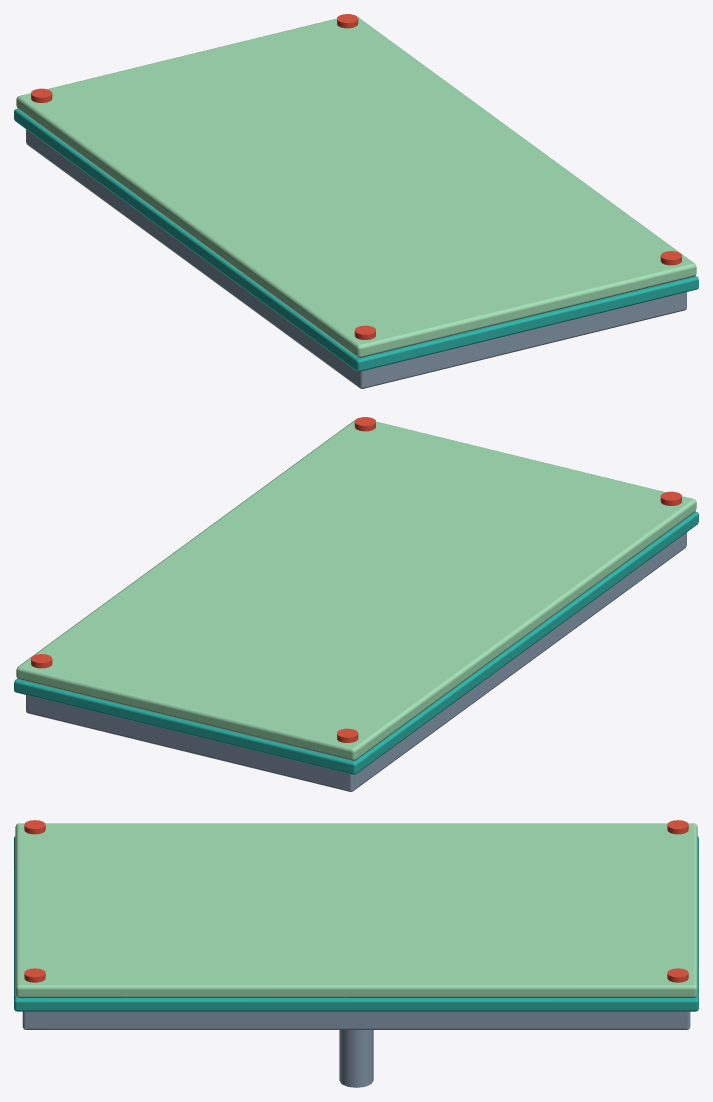
The model's file is PLAT_Toy_XL.glb.
The picture shows the model from 3 angles, top to bottom: view 1: azimuth 30°, elevation 25°; view 2: azimuth 150°, elevation 25°; view 3: azimuth 270°, elevation 25°; orthographic projection.
Parts seen in each view (by area): view 1: Top, Base, Band; view 2: Top, Base, Band; view 3: Top, Base, Band, Strut.
Part boxes in pixels (x1,y1,x2,y2): Top: [16, 15, 696, 357]; Base: [26, 129, 686, 388]; Band: [14, 108, 698, 371]; Top: [16, 418, 696, 760]; Base: [26, 532, 686, 791]; Band: [14, 511, 698, 774]; Top: [15, 823, 697, 997]; Base: [22, 1011, 690, 1029]; Band: [14, 836, 698, 1011]; Strut: [339, 1030, 373, 1087].
Size of the model in its own units: 8.06 by 4.12 by 14.06.
